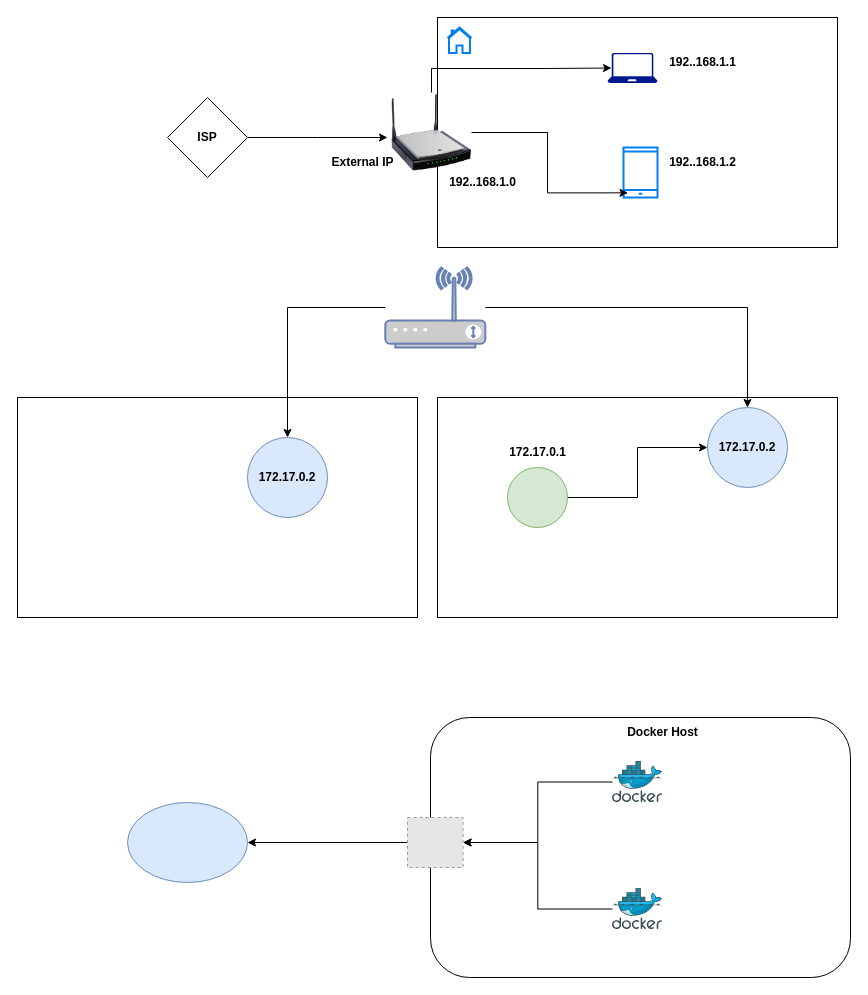
The diagram is 868 pixels wide and 995 high, and some of its shapes have lost their labels. Grey dashed boxes stand in for pictures. The shapes that lost their labels are listed below. From the top down, each one's centre as x and y in pixels, then its label:
At (537,497): "docker:0".
At (187,842): "AWS ISP".
